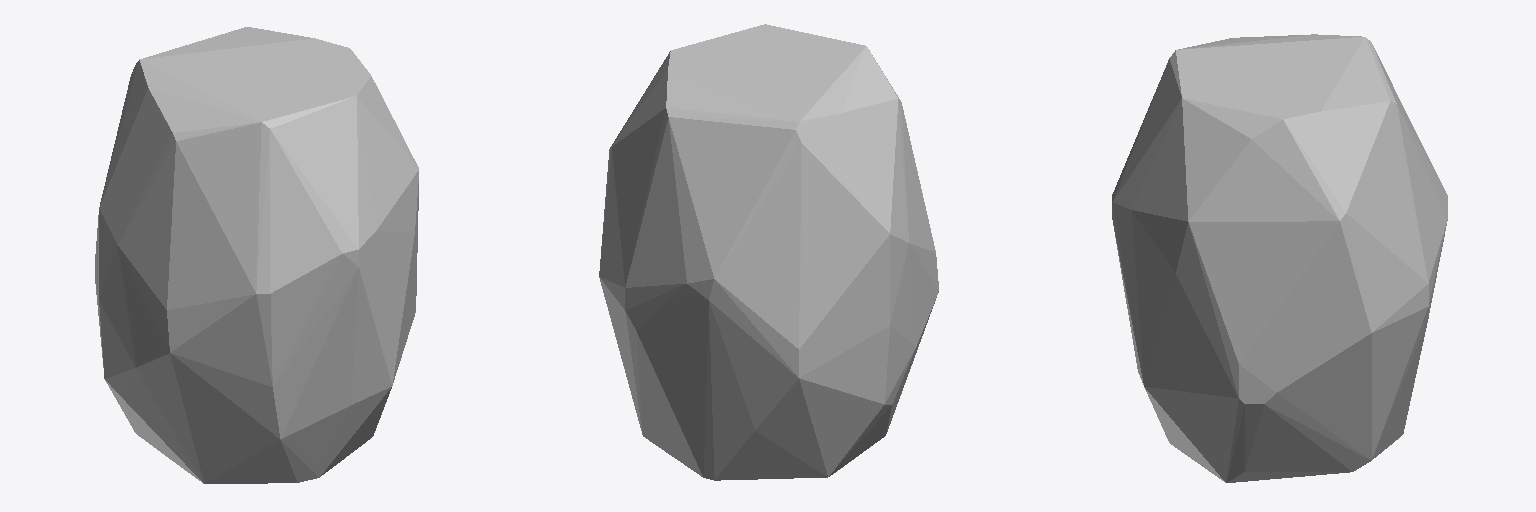
The model's file is Barrell_decimated.obj.
The picture shows the model from 3 angles: view 1: azimuth 30°, elevation 25°; view 2: azimuth 150°, elevation 25°; view 3: azimuth 270°, elevation 25°; orthographic projection.
Visible parts, largest first — view 1: convex_0; view 2: convex_0; view 3: convex_0.
Part boxes in pixels (x1,y1,x2,y2): convex_0: (95,27,418,483); convex_0: (599,24,938,480); convex_0: (1112,34,1447,482).
Size of the model in its own units: 30.6 by 38.39 by 31.8.